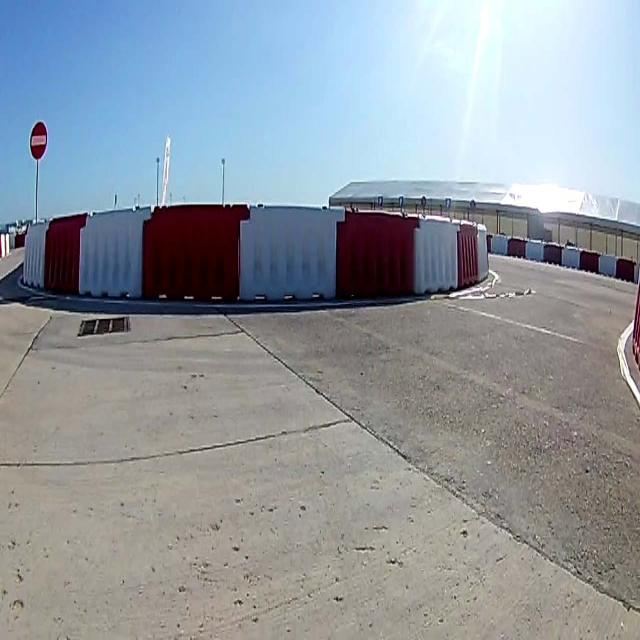girisyok: (31, 122, 47, 158)
